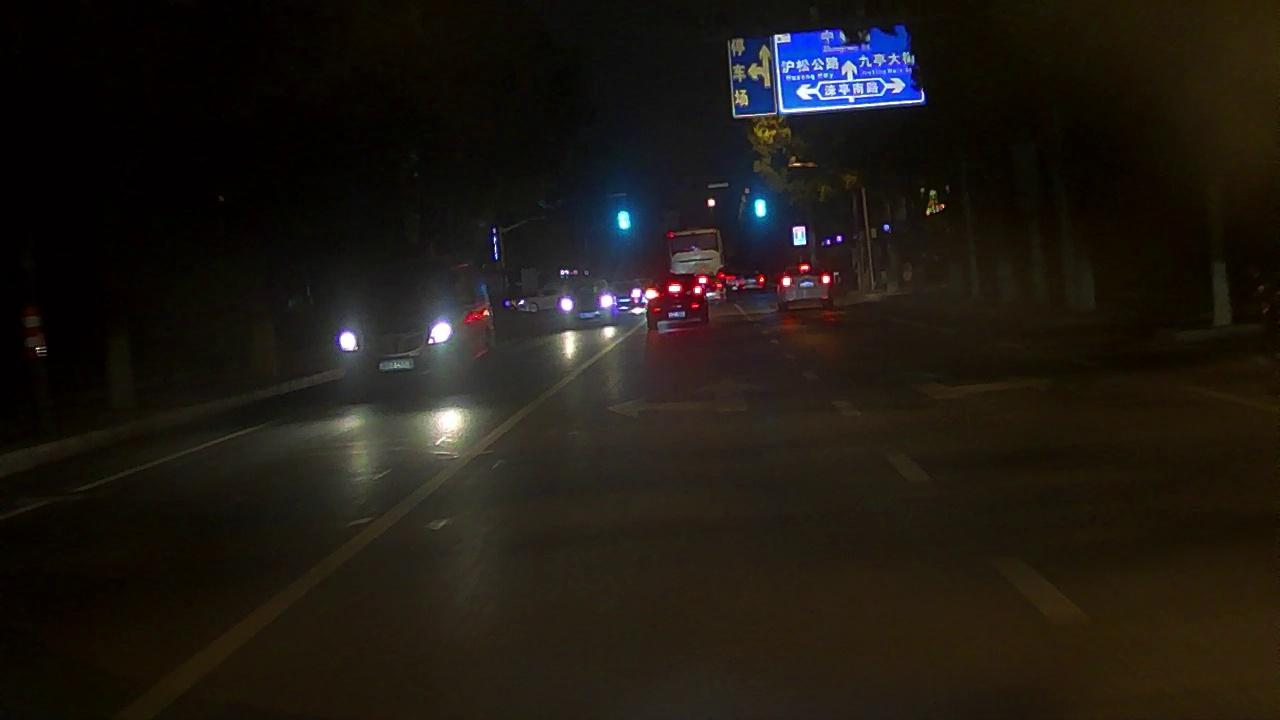traffic_light: (750, 193, 772, 223), (611, 206, 634, 233)
